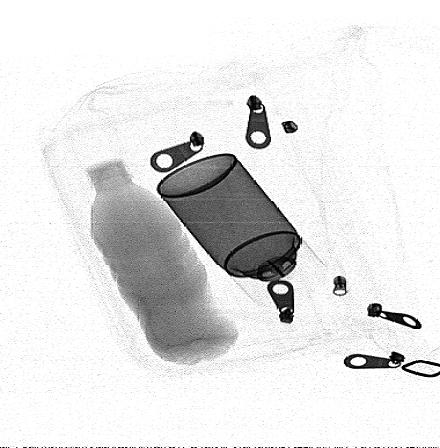Sprayer: (158, 153, 326, 304)
